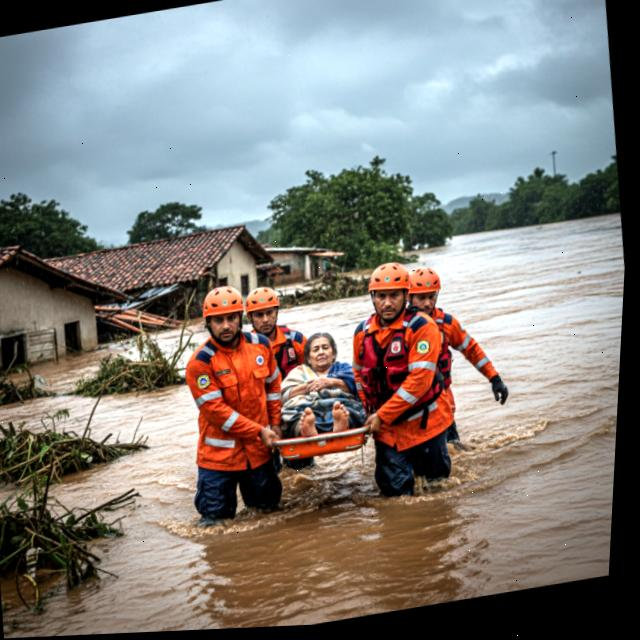civilian: (271, 319, 369, 444)
rescuer: (160, 266, 306, 537), (331, 247, 477, 507), (385, 240, 525, 465), (219, 272, 328, 485)
